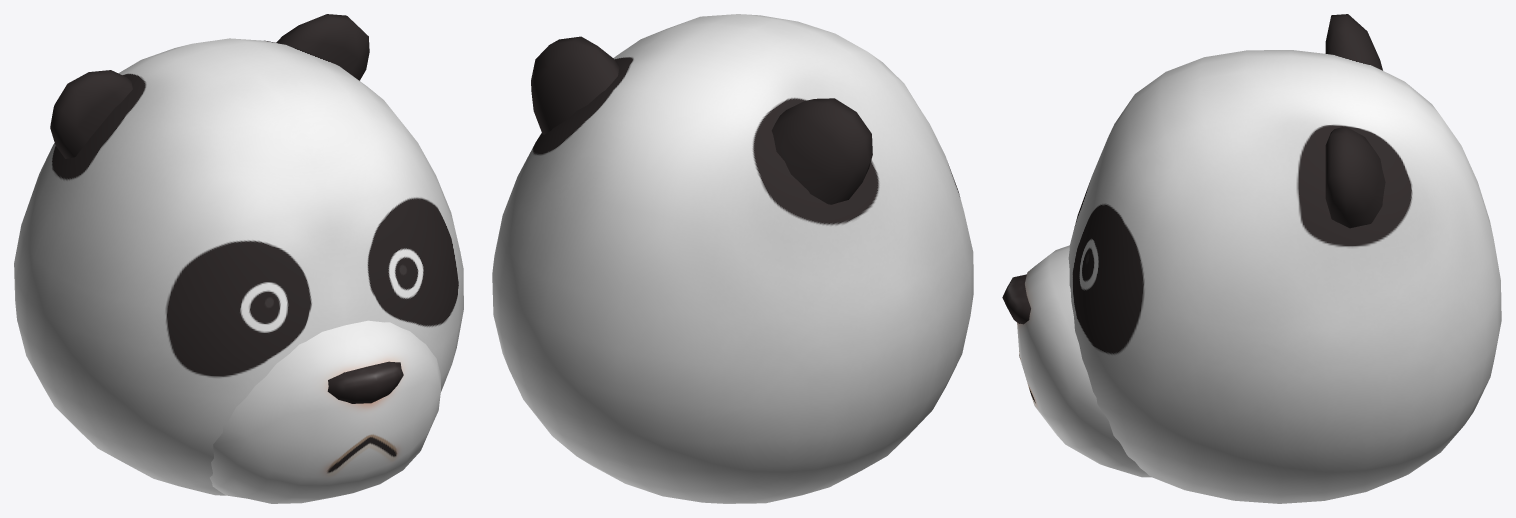
The model's file is ENV2010099.fbx.
3 renders of one model, left to right at view 1: azimuth 30°, elevation 25°; view 2: azimuth 150°, elevation 25°; view 3: azimuth 270°, elevation 25°, orthographic. The views are drawn at different scales.
Visible parts, largest first — view 1: smENV2010099; view 2: smENV2010099; view 3: smENV2010099.
Boxes of the visible parts, x1,y1,x2,y2 form: smENV2010099: [14, 14, 463, 503]; smENV2010099: [492, 14, 973, 503]; smENV2010099: [1002, 14, 1501, 503].
Bounding box in the file's own units: 19.93 × 19.92 × 22.18.
1 material, 1 textured.
